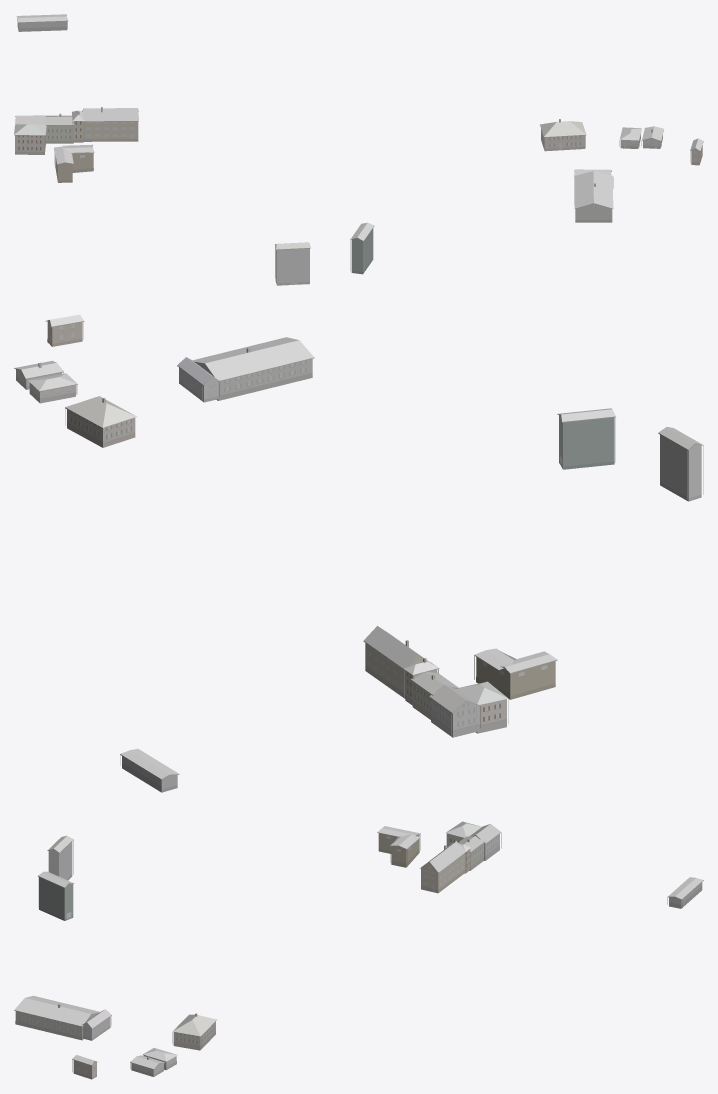
The picture shows the model from 3 angles, top to bottom: view 1: azimuth 30°, elevation 25°; view 2: azimuth 150°, elevation 25°; view 3: azimuth 270°, elevation 25°; orthographic projection. The views are drawn at different scales.
Parts seen in each view (by area): view 1: bld; view 2: bld; view 3: bld.
Boxes of the visible parts, x1=… form: bld: x1=14, y1=14, x2=703, y2=285; bld: x1=14, y1=314, x2=703, y2=792; bld: x1=14, y1=821, x2=703, y2=1079.
Bounding box in the file's own units: 215 × 16.05 × 251.
